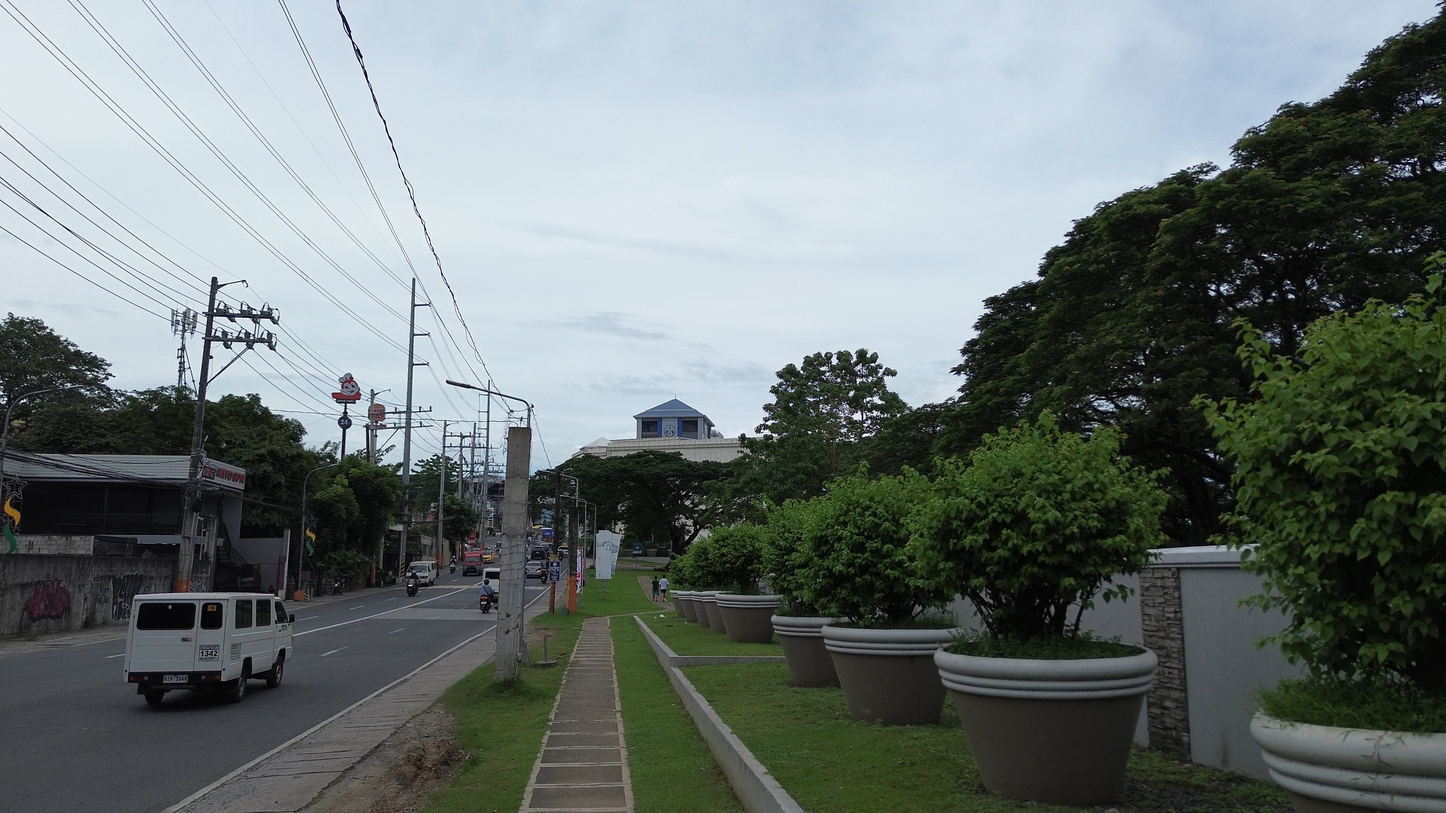car: (481, 550, 496, 563)
motorcycle: (479, 594, 492, 614), (406, 576, 418, 596), (332, 578, 343, 595), (449, 563, 455, 574)
vehicle: (124, 593, 293, 704), (408, 560, 438, 586), (462, 551, 484, 576), (525, 560, 546, 580), (405, 573, 419, 597), (480, 550, 496, 563)
